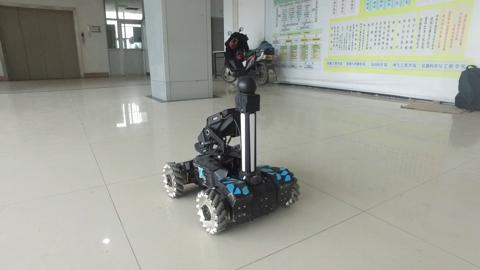bag: (448, 59, 480, 116)
chariot: (151, 75, 313, 235)
